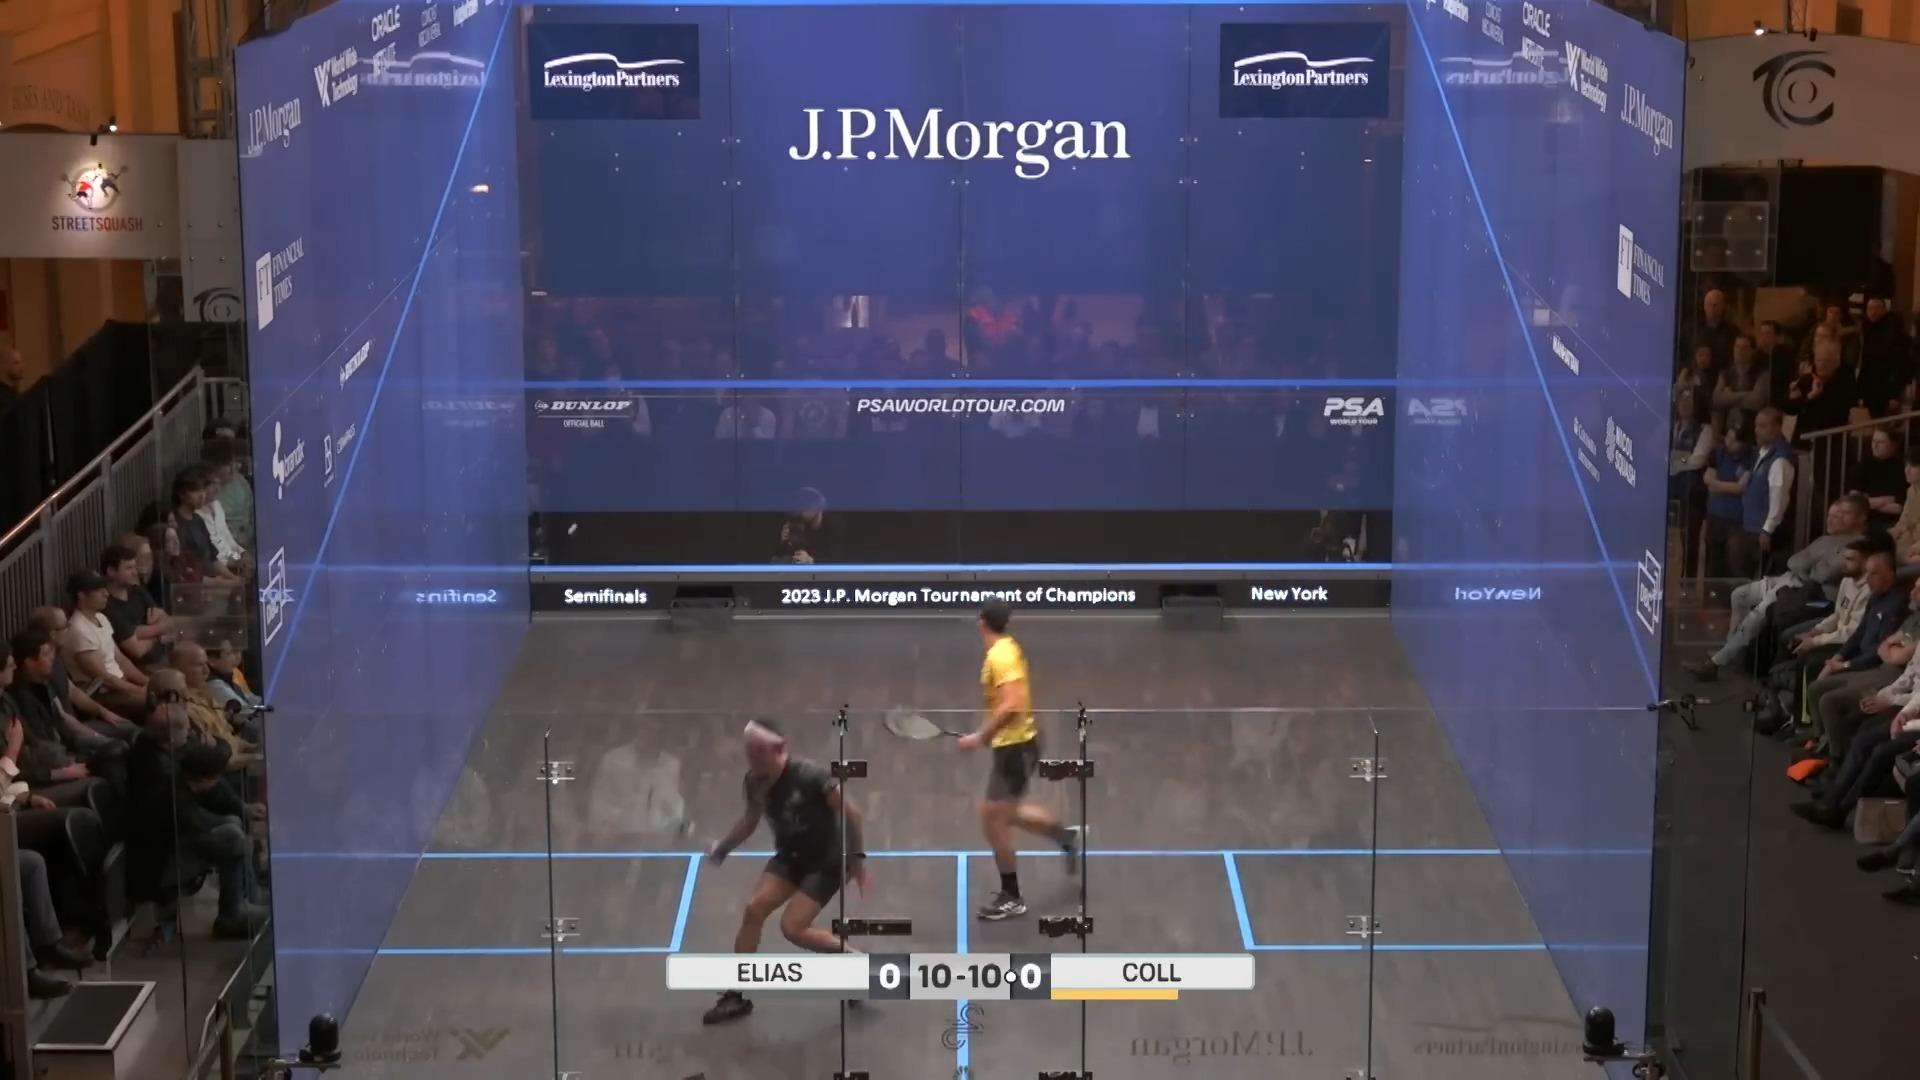Racket: (633, 778, 720, 857), (869, 692, 971, 749)
